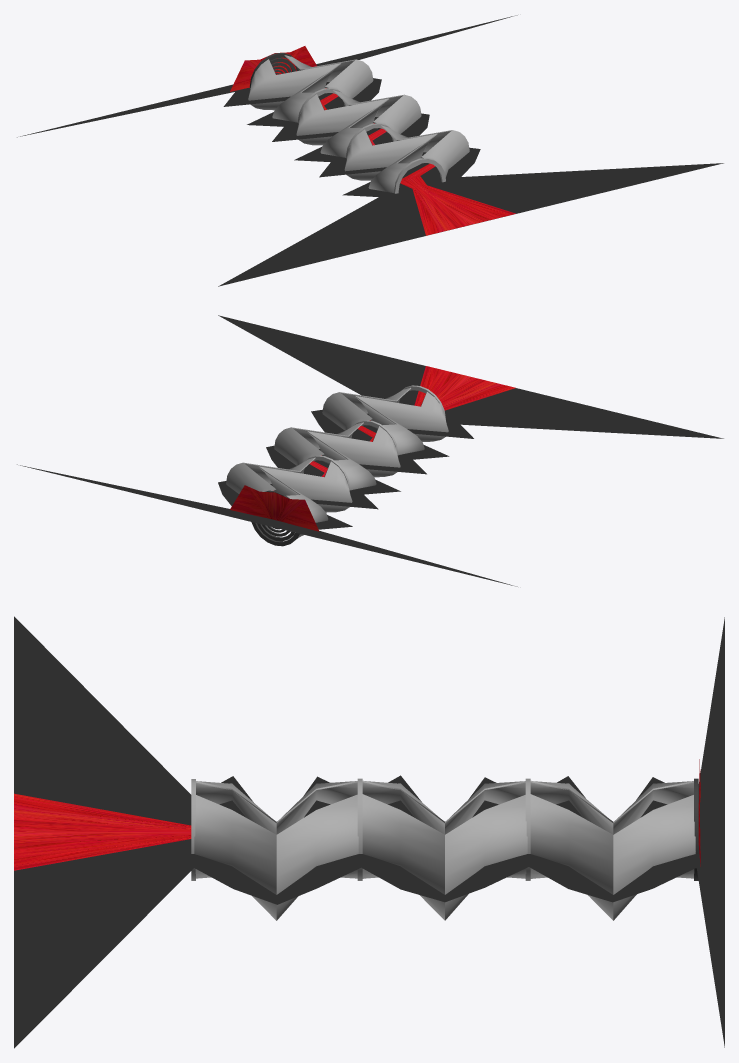
Rendered from ShortIH.fbx.
The picture shows the model from 3 angles, top to bottom: view 1: azimuth 30°, elevation 25°; view 2: azimuth 150°, elevation 25°; view 3: azimuth 270°, elevation 25°; orthographic projection. The views are drawn at different scales.
Parts seen in each view (by area): view 1: pPlane2, pPlane1, polySurface529, polySurface525, polySurface523, polySurface530, polySurface520, polySurface526, polySurface521, polySurface527, polySurface531; view 2: pPlane2, pPlane1, polySurface521, polySurface527, polySurface531, polySurface528, polySurface524, polySurface529, polySurface525, polySurface522, polySurface523; view 3: pPlane2, pPlane1, polySurface520, polySurface526, polySurface524, polySurface522, polySurface530, polySurface528, polySurface521, polySurface527, polySurface529, polySurface525 (+2 smaller).
Part boxes in pixels (<box>): pPlane2: <box>17,15,723,286</box>; pPlane1: <box>230,46,515,235</box>; polySurface529: <box>344,129,436,180</box>; polySurface525: <box>296,94,388,145</box>; polySurface523: <box>248,59,340,110</box>; polySurface530: <box>421,130,469,177</box>; polySurface520: <box>324,59,373,98</box>; polySurface526: <box>373,95,421,133</box>; polySurface521: <box>272,63,340,126</box>; polySurface527: <box>320,98,388,157</box>; polySurface531: <box>368,134,437,192</box>; pPlane2: <box>17,315,723,586</box>; pPlane1: <box>230,366,515,531</box>; polySurface521: <box>259,461,352,512</box>; polySurface527: <box>306,426,400,477</box>; polySurface531: <box>355,392,448,441</box>; polySurface528: <box>322,392,372,430</box>; polySurface524: <box>274,427,324,465</box>; polySurface529: <box>354,396,424,455</box>; polySurface525: <box>306,431,376,490</box>; polySurface522: <box>226,462,275,531</box>; polySurface523: <box>258,466,328,539</box>; pPlane2: <box>14,616,724,1048</box>; pPlane1: <box>14,759,700,870</box>; polySurface520: <box>530,794,613,920</box>; polySurface526: <box>362,794,444,920</box>; polySurface524: <box>445,795,527,920</box>; polySurface522: <box>613,795,695,920</box>; polySurface530: <box>194,795,276,920</box>; polySurface528: <box>276,794,358,920</box>; polySurface521: <box>530,780,613,834</box>; polySurface527: <box>362,780,444,834</box>; polySurface529: <box>276,781,357,834</box>; polySurface525: <box>445,781,525,834</box>.
Size of the model in its own units: 21416 by 2156 by 14867.
4 materials, 1 textured.
